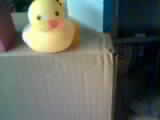duck: (18, 1, 70, 39)
